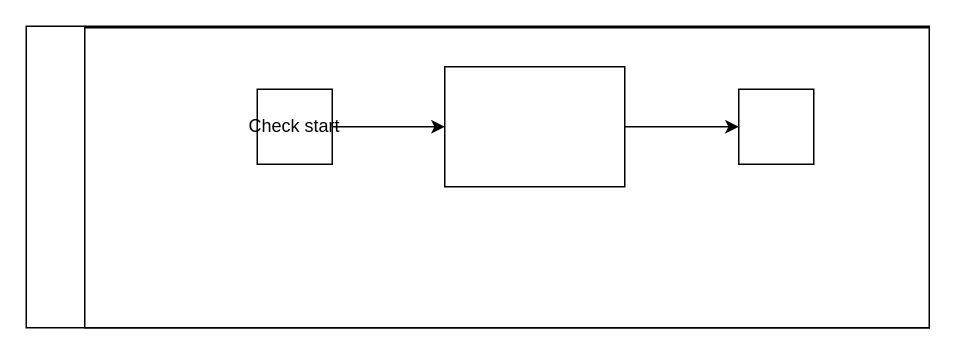
Some shapes in this 956 by 354 pixel diagram are drawn without their labels. The shapes that lost their labels are listed below. From the top down, each one's box as (x1, y1, x2, y2) in pixels, then its label:
(443, 65, 625, 187): Score customer
(737, 88, 814, 164): Check done
